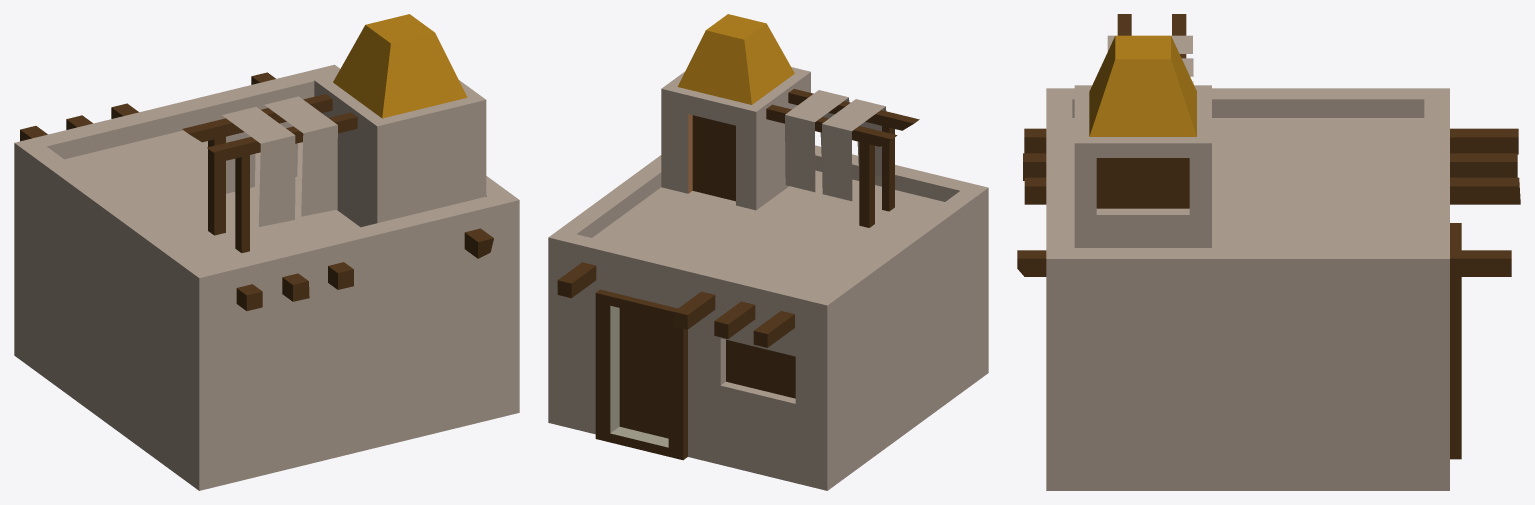
File: Hut(Level 2).fbx
3 renders of one model, left to right at view 1: azimuth 30°, elevation 25°; view 2: azimuth 150°, elevation 25°; view 3: azimuth 270°, elevation 25°, orthographic. The views are drawn at different scales.
Visible parts, largest first — view 1: Cube.000_Cube.001; view 2: Cube.000_Cube.001; view 3: Cube.000_Cube.001.
Part boxes in pixels (x1=…): Cube.000_Cube.001: x1=14, y1=14, x2=519, y2=490; Cube.000_Cube.001: x1=548, y1=14, x2=988, y2=490; Cube.000_Cube.001: x1=1017, y1=14, x2=1520, y2=490.
Size of the model in its own units: 11.81 by 13.03 by 14.74.
